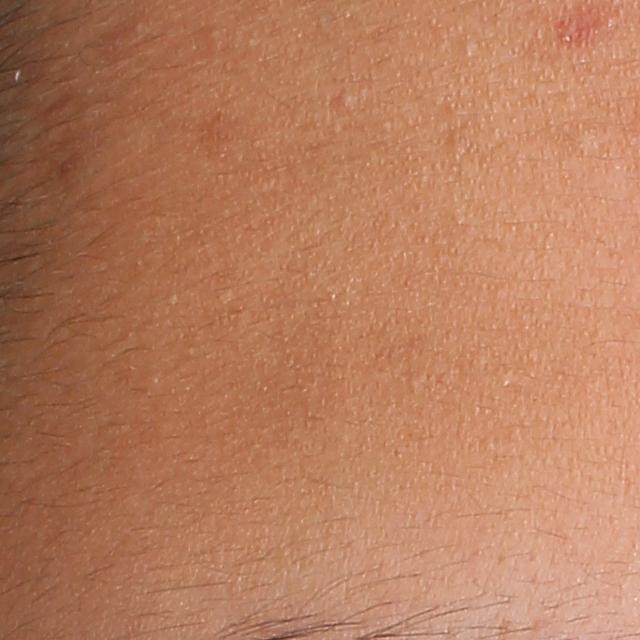comedo: (335, 85, 360, 110), (461, 41, 478, 61)
